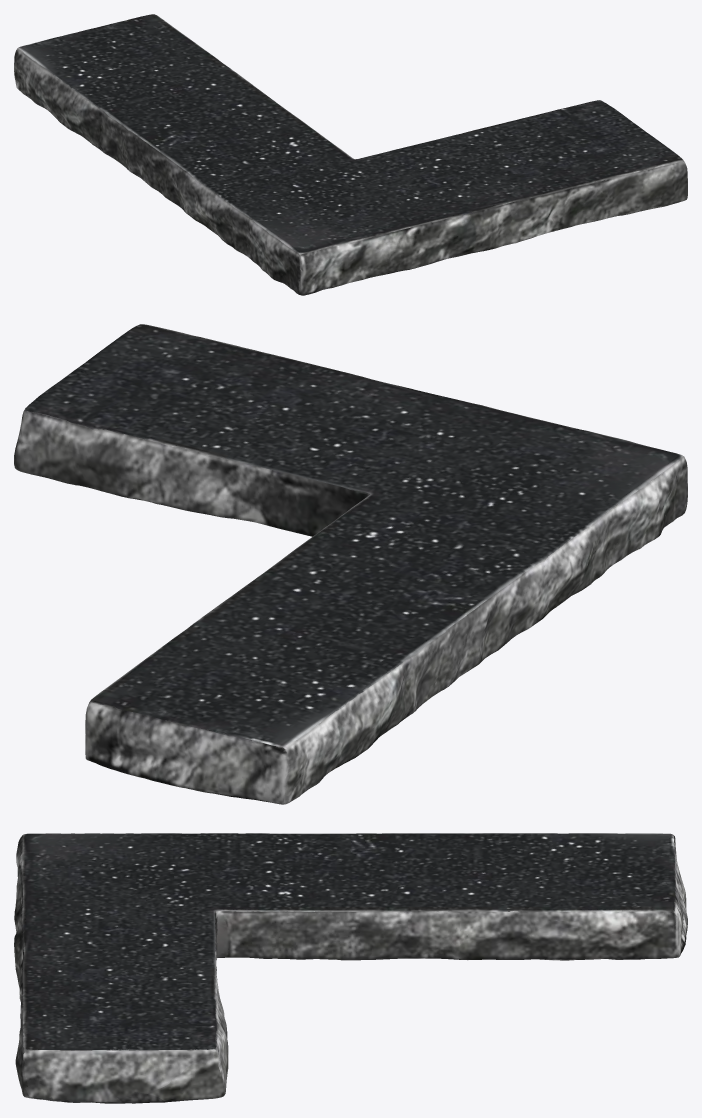
Rendered from remnant-b.glb.
3 renders of one model, top to bottom at view 1: azimuth 30°, elevation 25°; view 2: azimuth 150°, elevation 25°; view 3: azimuth 270°, elevation 25°, orthographic. The views are drawn at different scales.
Visible parts, largest first — view 1: geometry_0; view 2: geometry_0; view 3: geometry_0.
Part boxes in pixels (box(x1,y1,x2,y2)): geometry_0: box(14, 14, 687, 295); geometry_0: box(14, 324, 687, 804); geometry_0: box(14, 833, 687, 1103).
Bounding box in the file's own units: 0.9 × 0.0883 × 1.12.
1 material, 1 textured.
